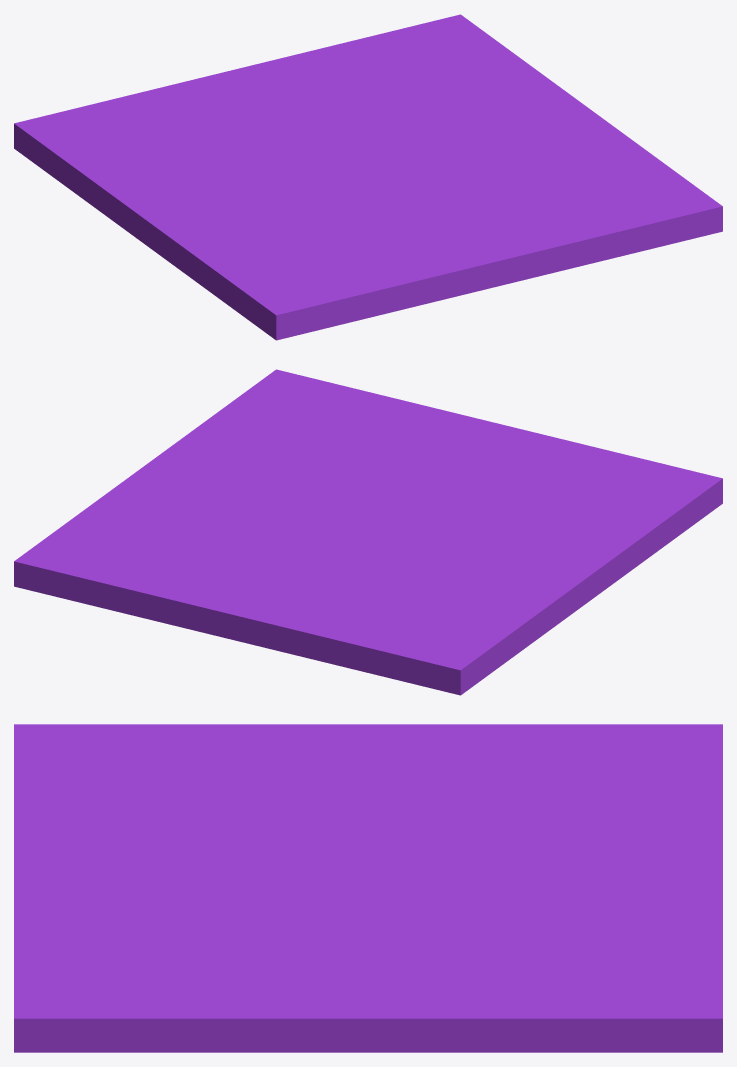
File: Window_172_chunks.fbx
The picture shows the model from 3 angles, top to bottom: view 1: azimuth 30°, elevation 25°; view 2: azimuth 150°, elevation 25°; view 3: azimuth 270°, elevation 25°; orthographic projection. The views are drawn at different scales.
Visible parts, largest first — view 1: Window_172_3, Window_172_39, Window_172_5, Window_172_19, Window_172_37, Window_172_33, Window_172_23, Window_172_21, Window_172_24, Window_172_6, Window_172_8, Window_172_7 (+29 smaller); view 2: Window_172_3, Window_172_19, Window_172_5, Window_172_24, Window_172_39, Window_172_23, Window_172_21, Window_172_8, Window_172_46, Window_172_6, Window_172_33, Window_172_37 (+29 smaller); view 3: Window_172_5, Window_172_3, Window_172_23, Window_172_39, Window_172_19, Window_172_38, Window_172_24, Window_172_21, Window_172_6, Window_172_33, Window_172_37, Window_172_11 (+29 smaller).
Boxes of the visible parts, x1,y1,x2,y2 form: Window_172_3: [180, 230, 432, 340]; Window_172_39: [540, 184, 722, 272]; Window_172_5: [454, 86, 639, 165]; Window_172_19: [49, 84, 256, 132]; Window_172_37: [487, 183, 566, 287]; Window_172_33: [392, 203, 490, 297]; Window_172_23: [438, 20, 558, 106]; Window_172_21: [349, 83, 506, 137]; Window_172_24: [357, 14, 467, 91]; Window_172_6: [389, 128, 552, 186]; Window_172_8: [14, 115, 107, 198]; Window_172_7: [83, 161, 165, 234]; Window_172_3: [527, 440, 722, 567]; Window_172_19: [293, 582, 451, 693]; Window_172_5: [112, 430, 276, 506]; Window_172_24: [14, 535, 223, 603]; Window_172_39: [246, 369, 457, 429]; Window_172_23: [14, 489, 180, 587]; Window_172_21: [166, 498, 282, 560]; Window_172_8: [422, 617, 533, 695]; Window_172_46: [178, 595, 299, 655]; Window_172_6: [251, 452, 350, 517]; Window_172_33: [418, 427, 563, 487]; Window_172_37: [338, 414, 511, 463]; Window_172_5: [220, 938, 457, 1052]; Window_172_3: [14, 724, 268, 827]; Window_172_23: [435, 961, 722, 1052]; Window_172_39: [14, 898, 141, 1052]; Window_172_19: [564, 747, 722, 850]; Window_172_38: [68, 969, 240, 1052]; Window_172_24: [549, 915, 722, 1039]; Window_172_21: [401, 900, 578, 978]; Window_172_6: [224, 888, 411, 962]; Window_172_33: [14, 829, 221, 885]; Window_172_37: [14, 863, 226, 945]; Window_172_11: [299, 807, 468, 876].
Size of the model in its own units: 1129 by 60.81 by 1149.
